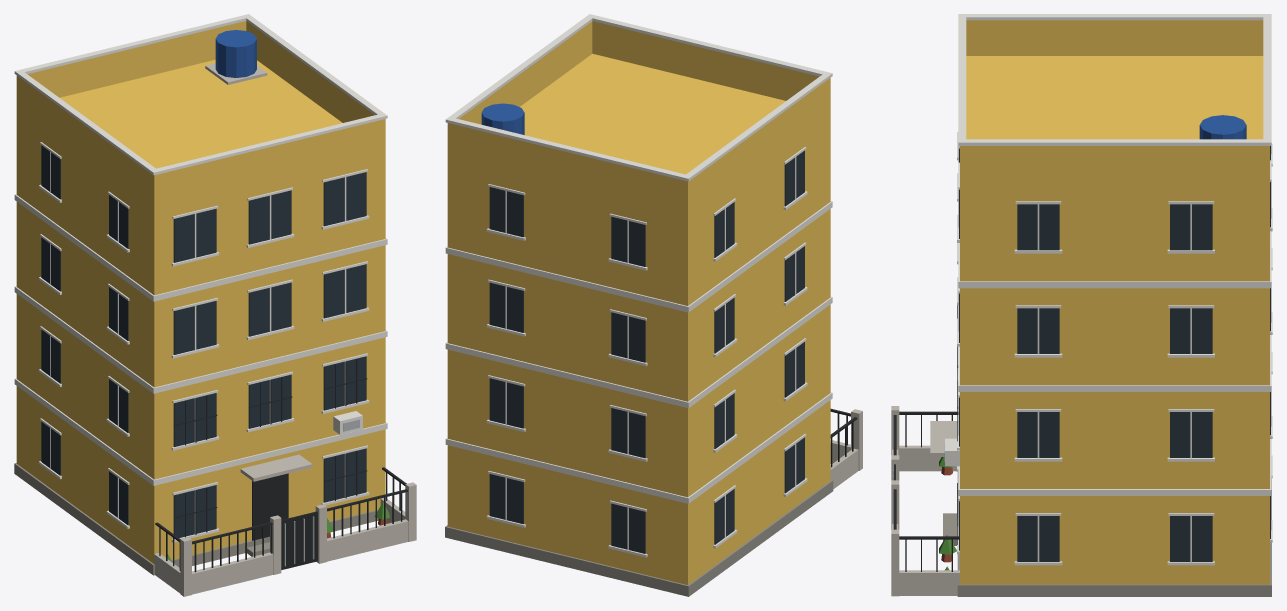
The model's file is BAY_F_Tower_F.glb.
3 renders of one model, left to right at view 1: azimuth 30°, elevation 25°; view 2: azimuth 150°, elevation 25°; view 3: azimuth 270°, elevation 25°, orthographic. The views are drawn at different scales.
Visible parts, largest first — view 1: BAY_F_Tower_F; view 2: BAY_F_Tower_F; view 3: BAY_F_Tower_F.
Boxes of the visible parts, x1,y1,x2,y2 form: BAY_F_Tower_F: (14,14,416,596); BAY_F_Tower_F: (445,14,862,596); BAY_F_Tower_F: (891,14,1272,596).
Size of the model in its own units: 7.24 by 11.8 by 8.99.
Materials: 1 (1 with a texture image).
